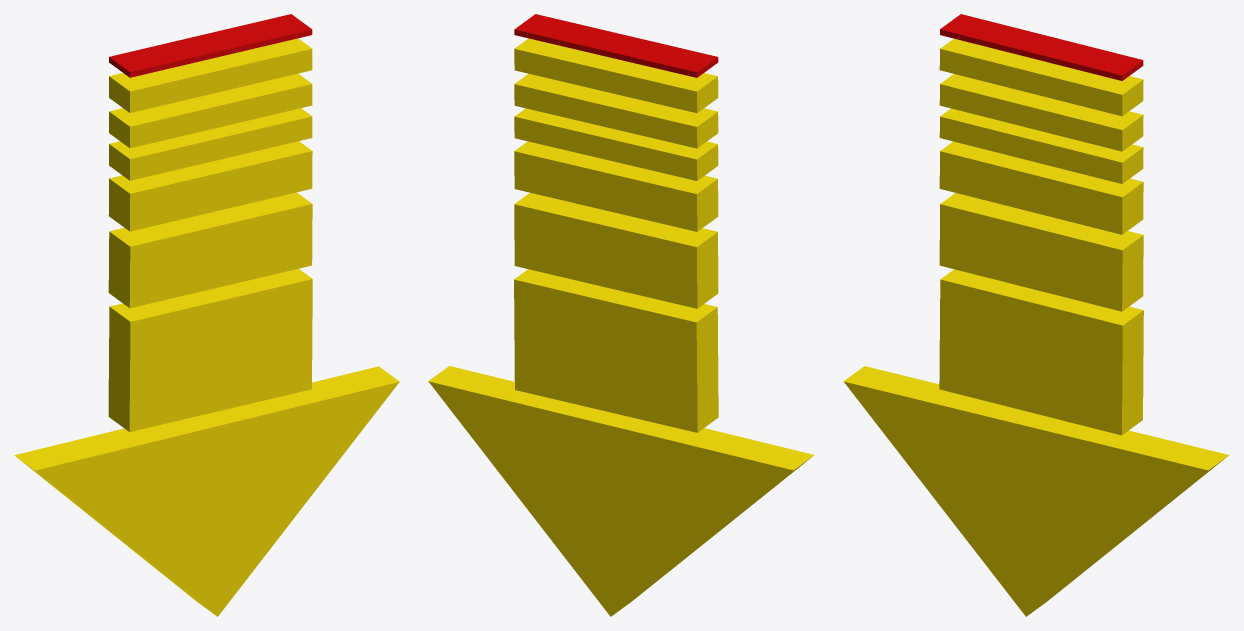
File: arrow.fbx
The picture shows the model from 3 angles, left to right: view 1: azimuth 30°, elevation 25°; view 2: azimuth 150°, elevation 25°; view 3: azimuth 330°, elevation 25°; orthographic projection.
Parts seen in each view (by area): view 1: Box1, Box, Box2, Box3, Box5, Box6, Box4, Box7; view 2: Box1, Box, Box2, Box3, Box5, Box6, Box4, Box7; view 3: Box1, Box, Box2, Box3, Box5, Box6, Box4, Box7.
Boxes of the visible parts, x1,y1,x2,y2 form: Box1: (14,366,399,616); Box: (108,268,312,431); Box2: (108,192,312,308); Box3: (108,141,312,231); Box5: (109,73,312,148); Box6: (109,38,312,112); Box4: (109,108,312,180); Box7: (109,14,312,77); Box1: (428,366,814,616); Box: (514,269,718,432); Box2: (514,192,718,308); Box3: (514,141,718,231); Box5: (514,73,718,148); Box6: (514,38,718,113); Box4: (514,108,718,180); Box7: (514,14,718,77); Box1: (843,366,1228,616); Box: (939,269,1143,435); Box2: (939,193,1143,311); Box3: (939,141,1143,234); Box5: (939,74,1143,151); Box6: (939,38,1143,116); Box4: (939,108,1143,183); Box7: (940,14,1143,80).
Bounding box in the file's own units: 1 × 1.48 × 0.1035.
